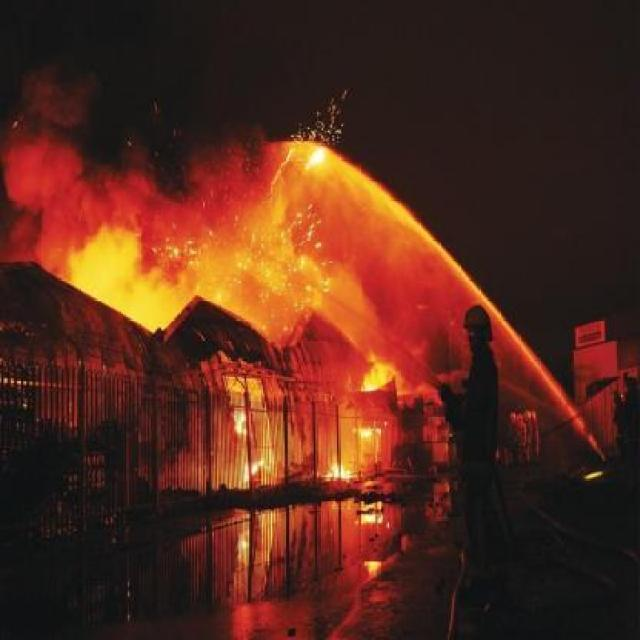Fire: (30, 103, 438, 640)
